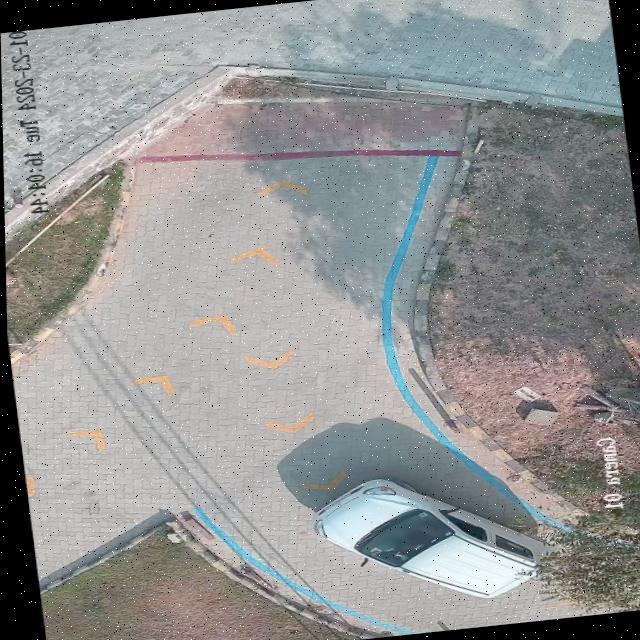car: (308, 477, 543, 596)
